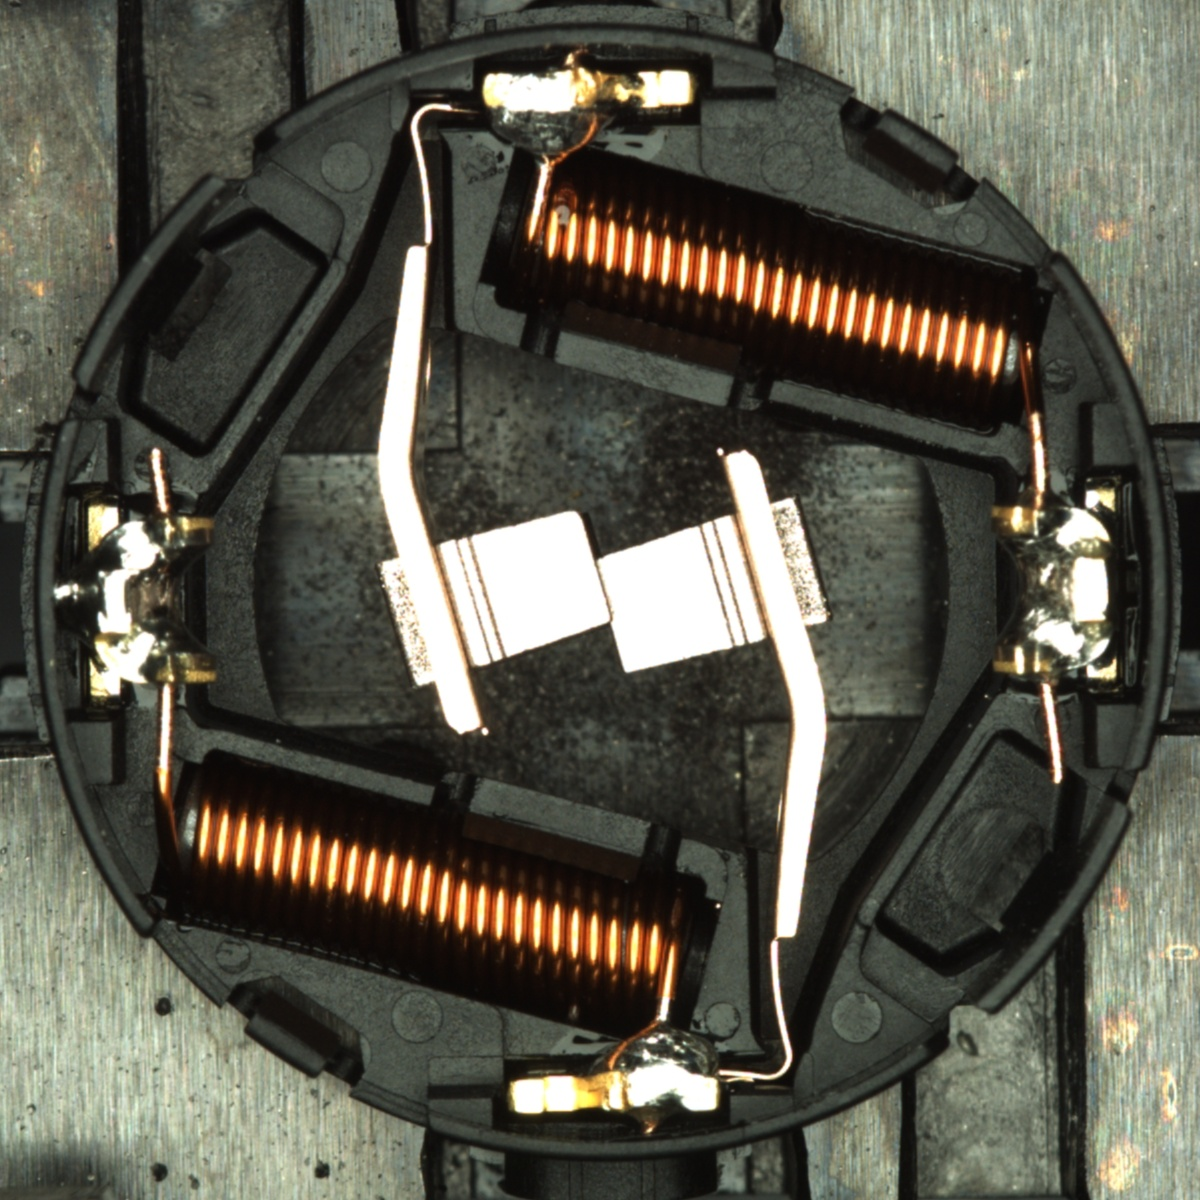1: (255, 30, 484, 255), (713, 927, 943, 1152)
2: (713, 30, 943, 255), (255, 927, 484, 1152)
3: (25, 255, 255, 479), (943, 703, 1171, 927)
4: (713, 703, 943, 927), (255, 255, 484, 479)
5: (484, 142, 713, 367), (484, 815, 713, 1040)
6: (713, 255, 943, 479), (255, 703, 484, 927)
7: (25, 703, 255, 927), (943, 255, 1171, 479)
cacbon: (398, 498, 799, 684)
chau_dien: (81, 497, 221, 699), (984, 486, 1122, 685)
hat_chi: (51, 578, 81, 609)
tay_choi: (481, 66, 699, 167), (505, 1020, 722, 1118)
thanh_de: (954, 785, 1141, 1031), (59, 164, 245, 405)
vun_chi: (52, 558, 101, 642)
